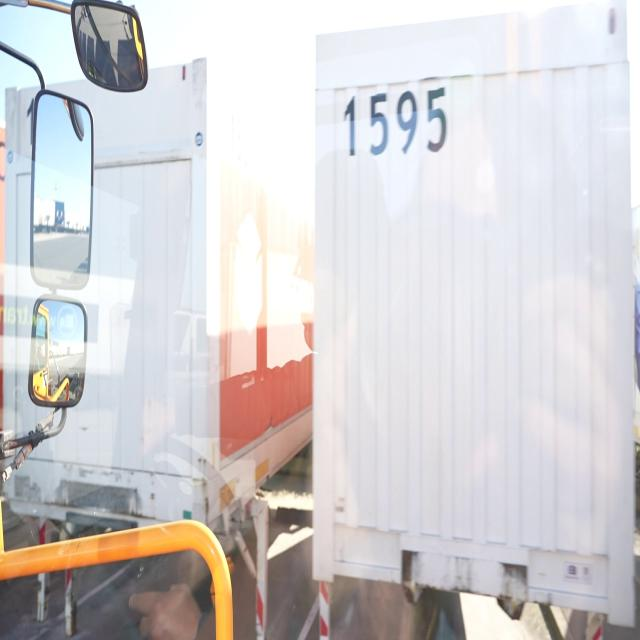Code: (336, 70, 459, 171)
